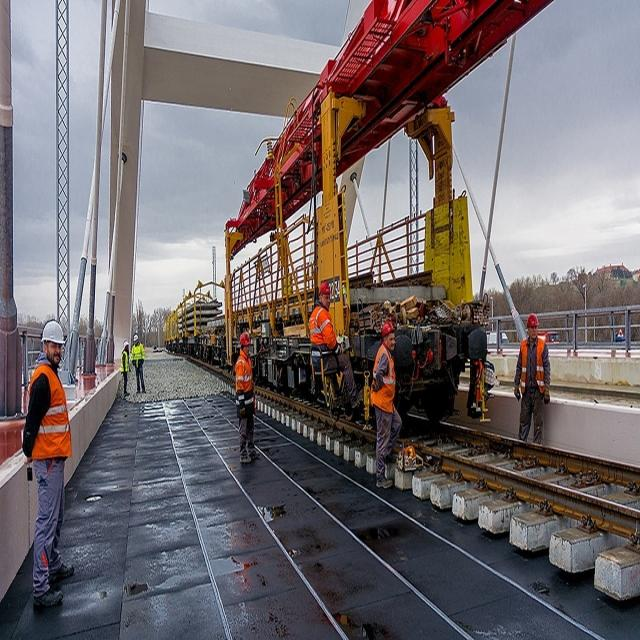Helmet: (43, 322, 66, 355), (383, 323, 396, 342), (528, 314, 540, 332), (320, 282, 332, 300), (240, 334, 252, 349), (134, 336, 140, 344), (124, 342, 130, 350)
Jacket: (30, 366, 66, 464), (522, 337, 546, 396), (376, 347, 394, 407), (311, 305, 331, 358), (235, 355, 253, 401), (133, 346, 145, 366), (123, 350, 131, 373)
